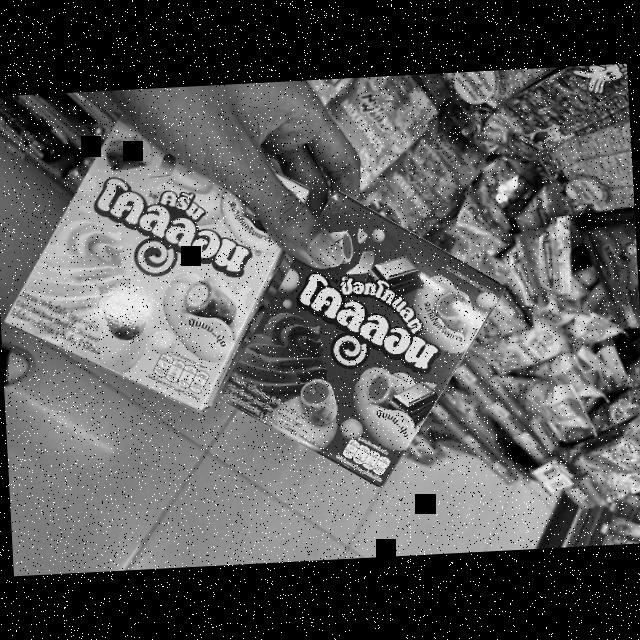cardboard_box: (3, 102, 320, 424), (204, 185, 522, 503)
